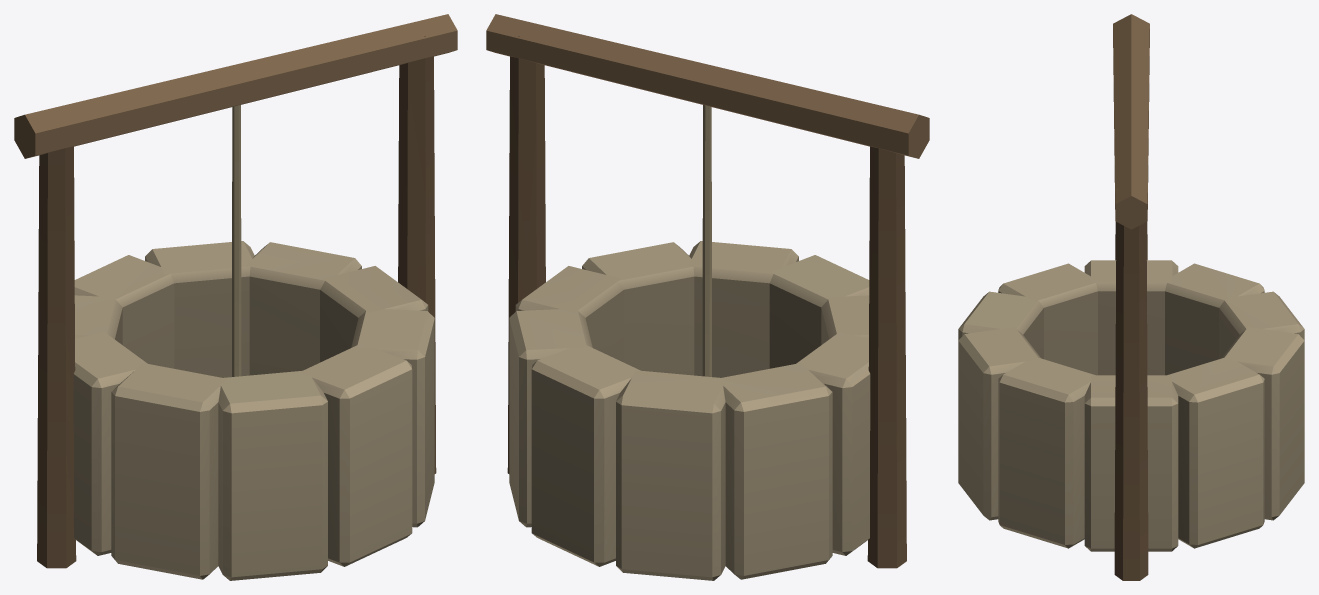
The model's file is well.glb.
The picture shows the model from 3 angles, left to right: view 1: azimuth 30°, elevation 25°; view 2: azimuth 150°, elevation 25°; view 3: azimuth 270°, elevation 25°; orthographic projection. The views are drawn at different scales.
Visible parts, largest first — view 1: well; view 2: well; view 3: well.
Boxes of the visible parts, x1,y1,x2,y2 form: well: [14, 14, 457, 580]; well: [486, 14, 929, 580]; well: [958, 14, 1304, 580].
Size of the model in its own units: 2 by 2.05 by 1.63.
